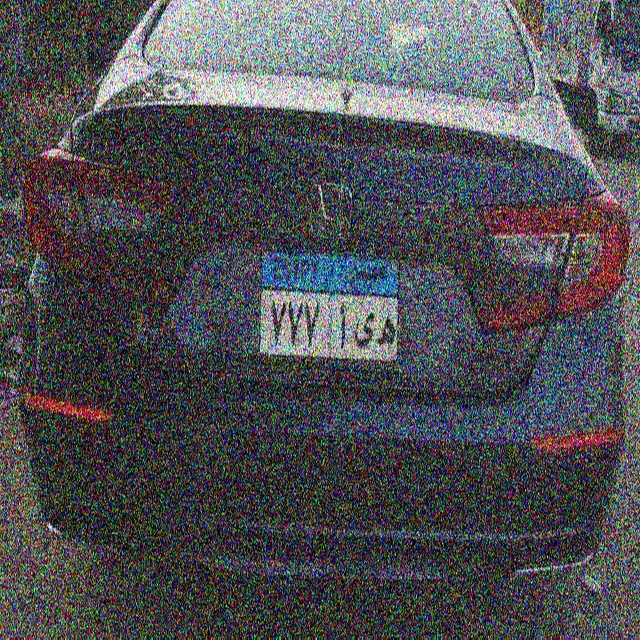License Plate: (257, 250, 403, 366)
